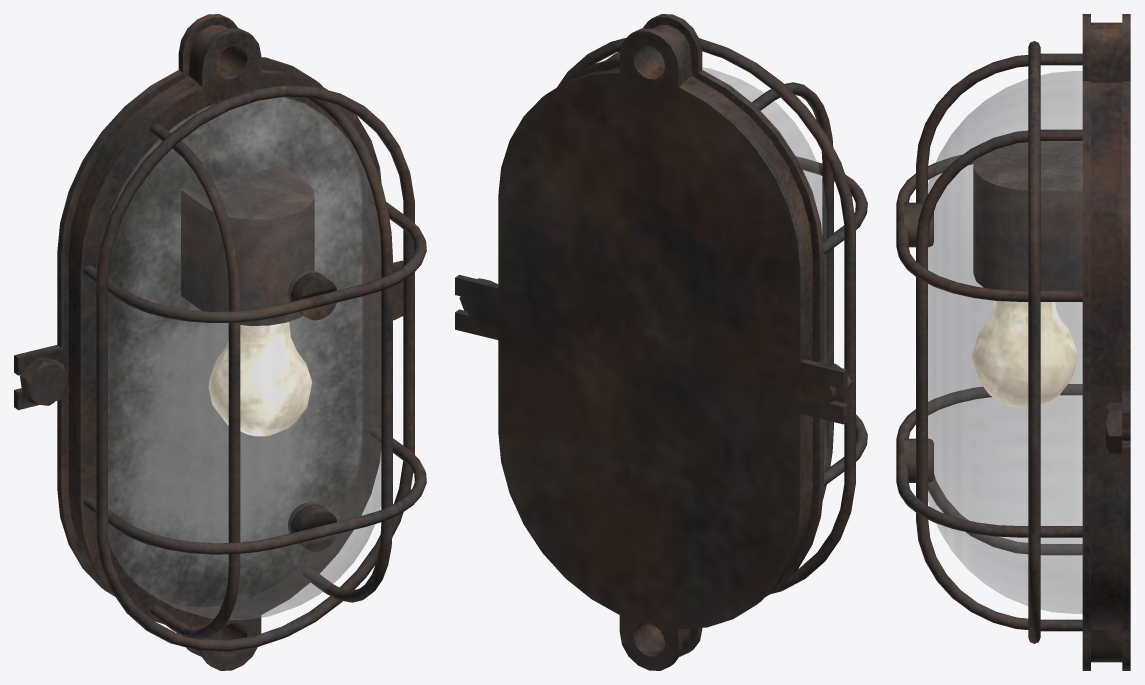
3 renders of one model, left to right at view 1: azimuth 30°, elevation 25°; view 2: azimuth 150°, elevation 25°; view 3: azimuth 270°, elevation 25°, orthographic.
Visible parts, largest first — view 1: industrial_wall_lamp; view 2: industrial_wall_lamp; view 3: industrial_wall_lamp.
Boxes of the visible parts, x1,y1,x2,y2 form: industrial_wall_lamp: [14, 14, 426, 670]; industrial_wall_lamp: [455, 14, 867, 670]; industrial_wall_lamp: [896, 14, 1130, 670].
Bounding box in the file's own units: 0.2735 × 0.4299 × 0.1404.
Materials: 2 (2 with a texture image).
